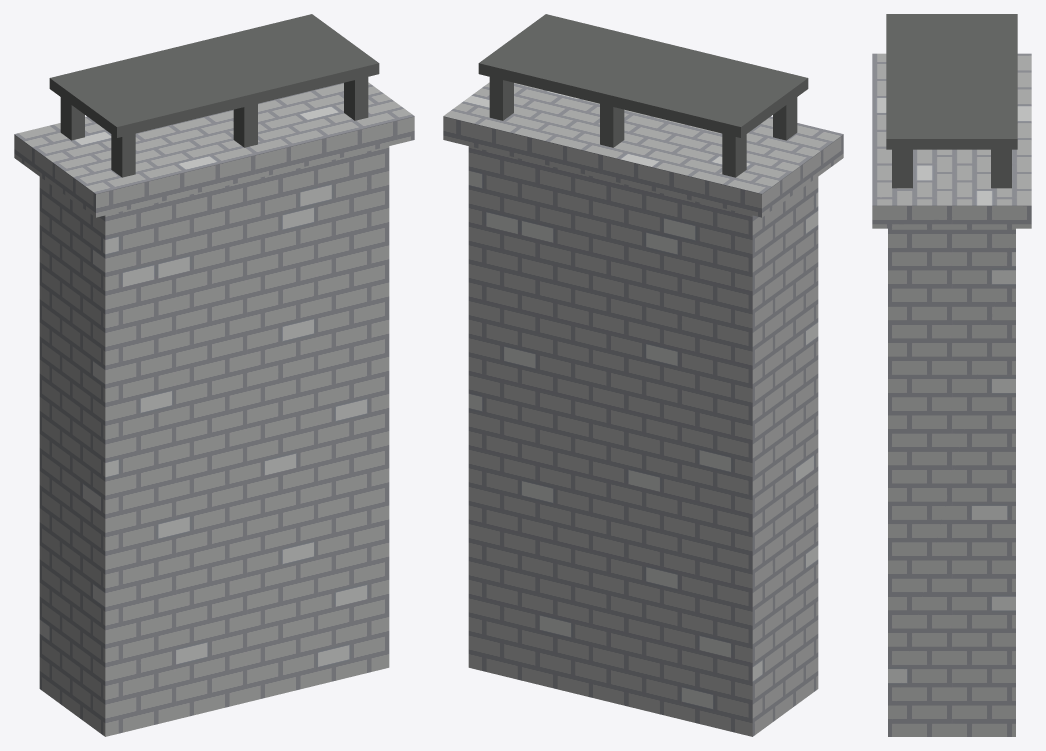
File: SM_chimney_01.gltf
3 views of the same model, side by side, from view 1: azimuth 30°, elevation 25°; view 2: azimuth 150°, elevation 25°; view 3: azimuth 270°, elevation 25° (orthographic). The views are drawn at different scales.
Visible parts, largest first — view 1: SM_chimney_01; view 2: SM_chimney_01; view 3: SM_chimney_01.
Part boxes in pixels (left/top/right/bottom): SM_chimney_01: left=14, top=14, right=414, bottom=736; SM_chimney_01: left=443, top=14, right=843, bottom=736; SM_chimney_01: left=872, top=14, right=1031, bottom=736.
Size of the model in its own units: 2.25 by 4.09 by 0.9962.
Materials: 2 (2 with a texture image).
